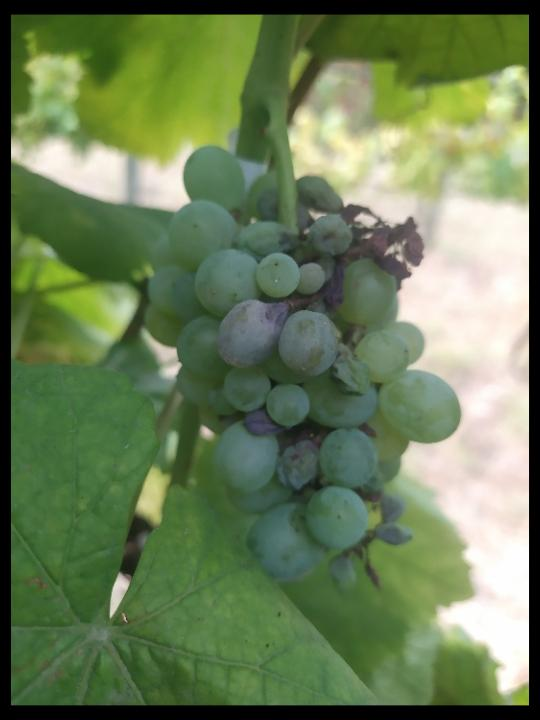grape: (141, 143, 466, 594)
